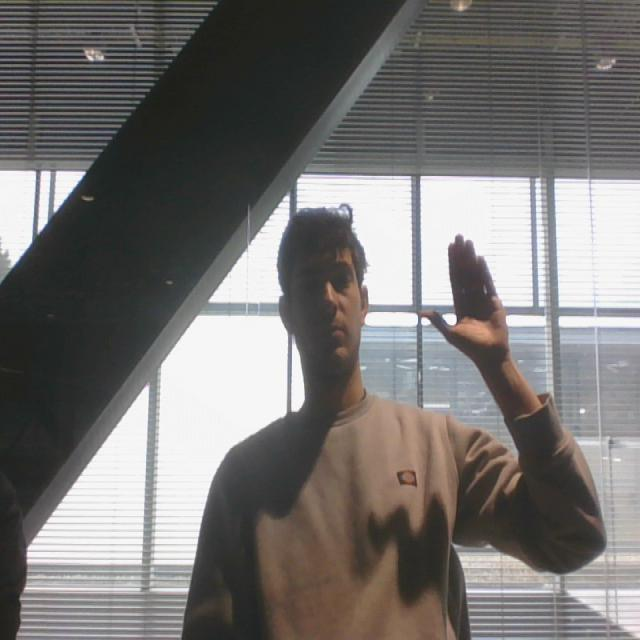backward: (417, 223, 525, 375)
